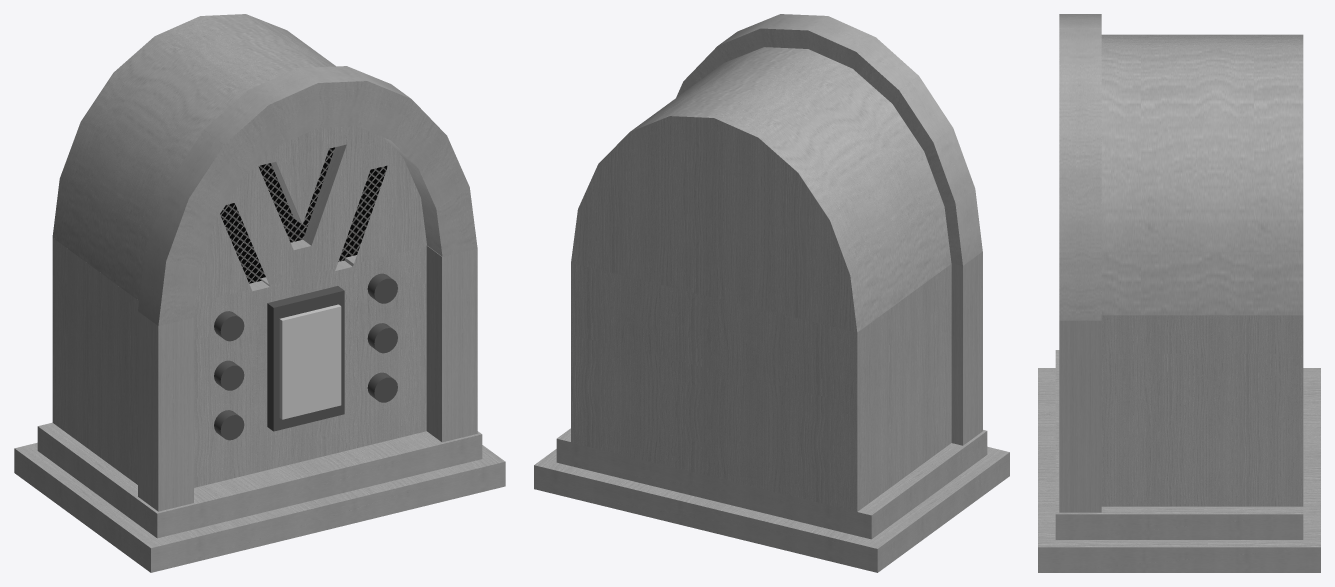
The model's file is Radio.fbx.
3 renders of one model, left to right at view 1: azimuth 30°, elevation 25°; view 2: azimuth 150°, elevation 25°; view 3: azimuth 270°, elevation 25°, orthographic. The views are drawn at different scales.
Parts seen in each view (by area): view 1: group3_pasted__polySurface1; view 2: group3_pasted__polySurface1; view 3: group3_pasted__polySurface1.
Boxes of the visible parts, box(x1,y1,x2,y2) form: group3_pasted__polySurface1: box(14, 14, 505, 572); group3_pasted__polySurface1: box(534, 14, 1009, 572); group3_pasted__polySurface1: box(1038, 14, 1320, 572).
Size of the model in its own units: 3 by 3.55 by 2.
4 materials, 2 textured.
